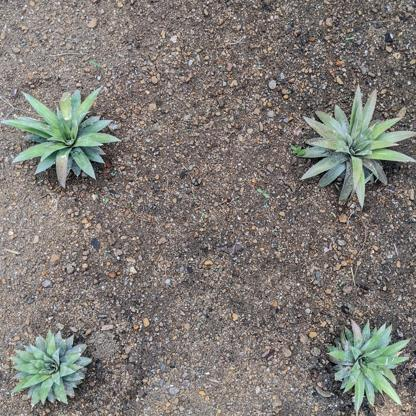pineapple: (298, 85, 413, 211), (1, 88, 121, 191), (325, 315, 409, 416), (11, 328, 95, 407)
